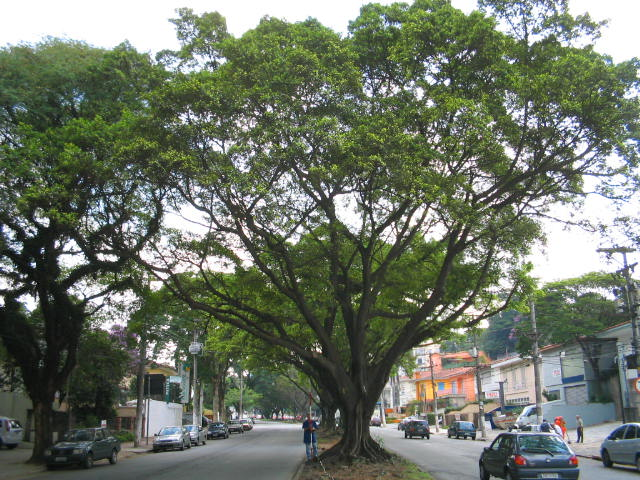crown: (126, 1, 640, 256), (2, 36, 192, 270)
stem: (326, 403, 393, 464), (19, 405, 62, 464)
stick: (305, 379, 318, 465)
tree: (126, 1, 640, 466), (1, 34, 193, 464)
